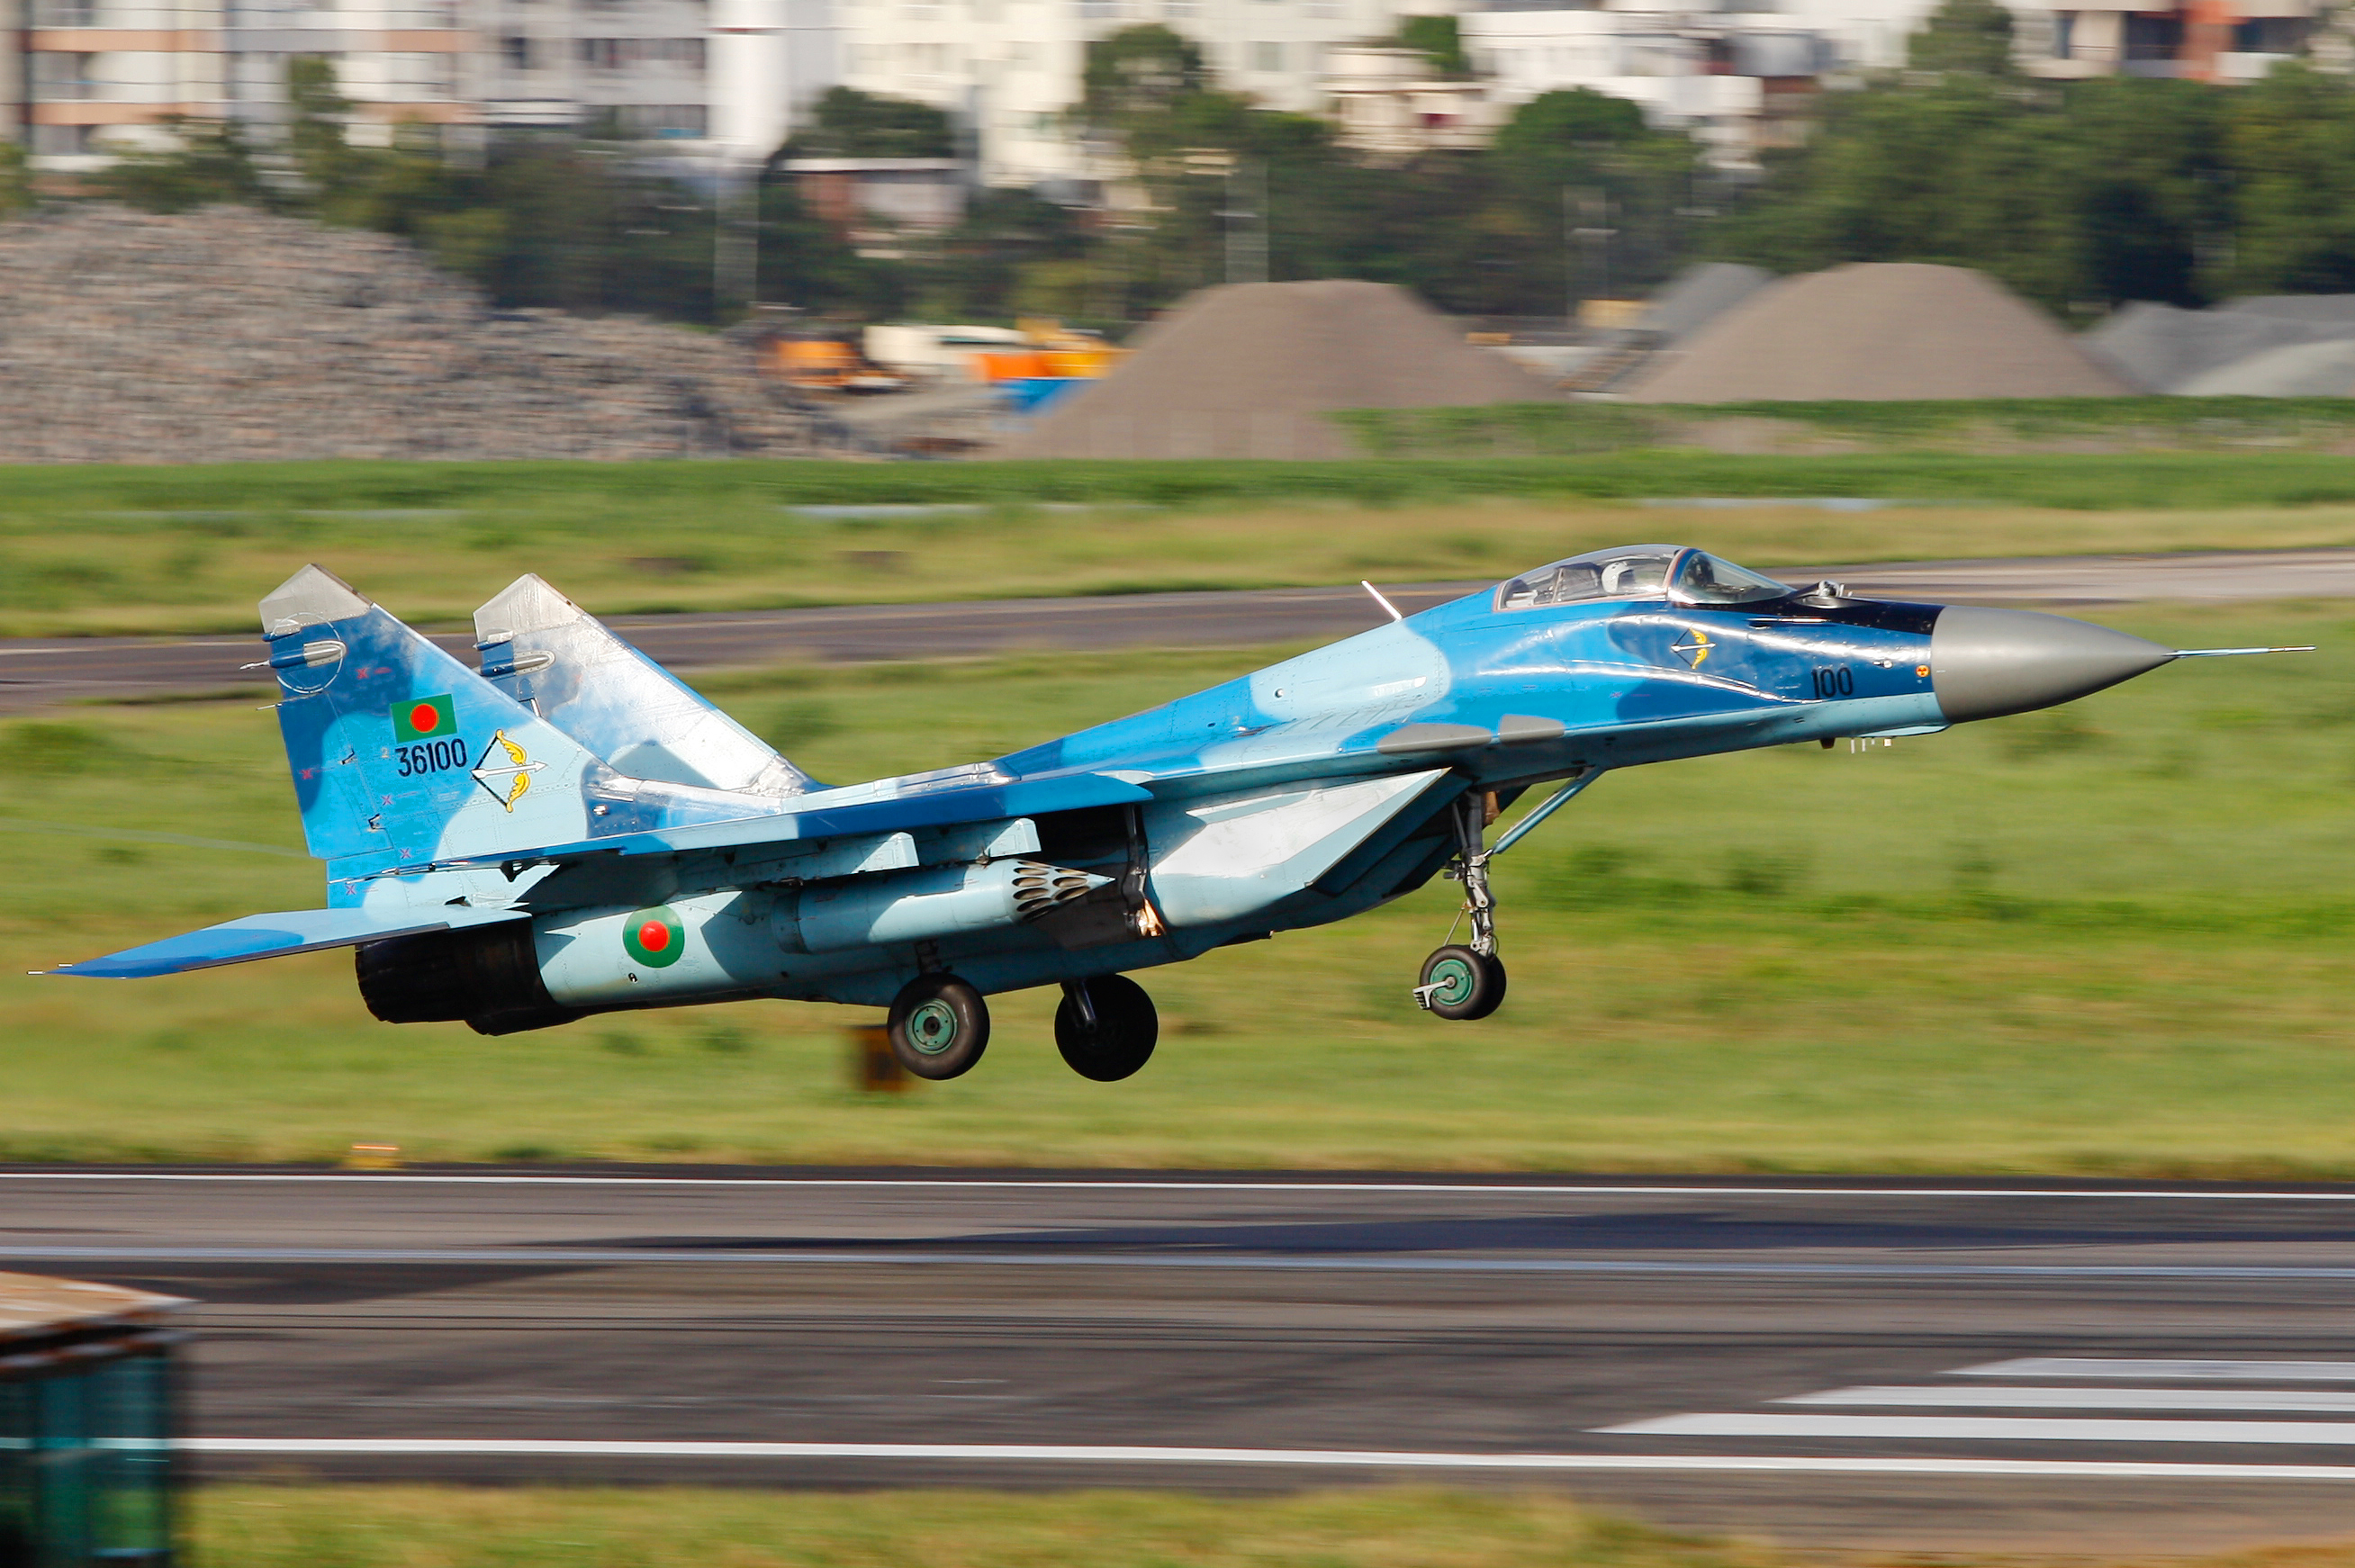Bangladesh: (612, 903, 696, 970), (387, 688, 458, 744)
Mig-29: (63, 469, 2299, 1127)
